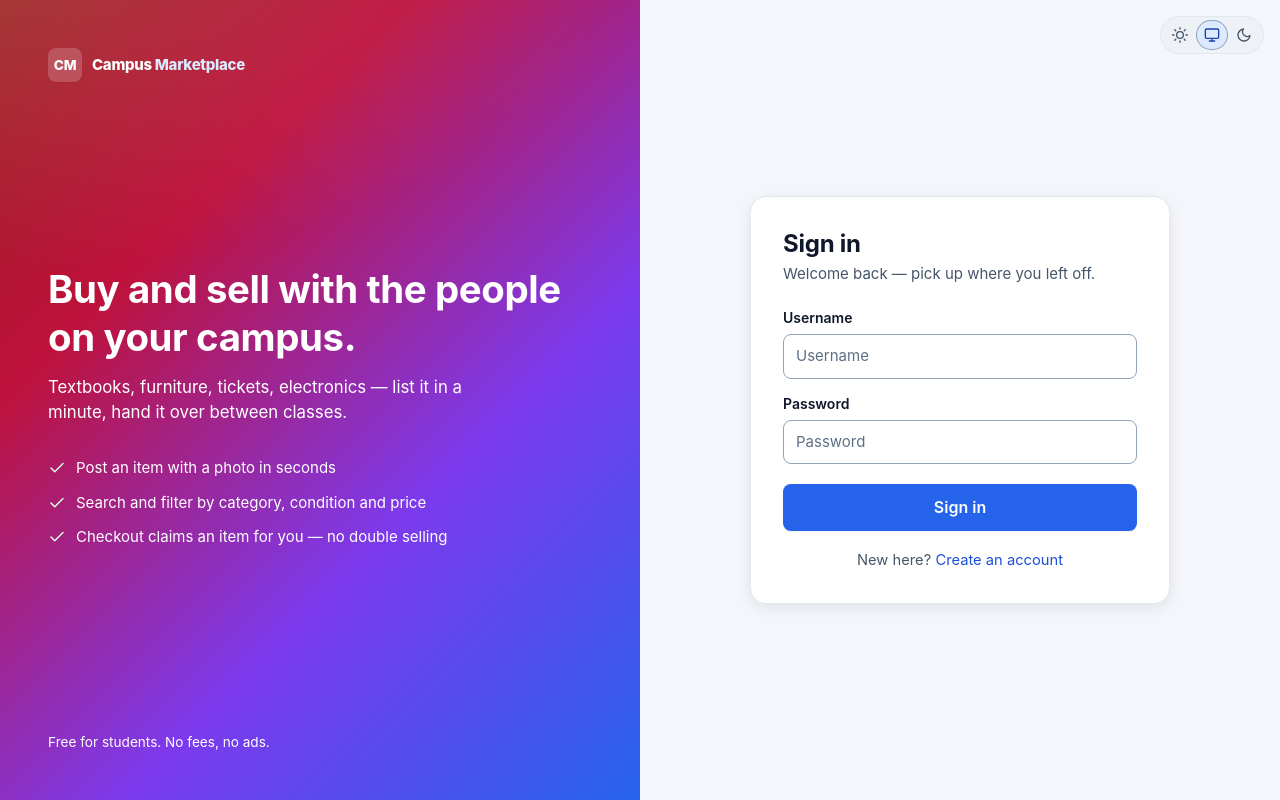
Scenario: a shared filter link survives the sign-in detour
Check: the heading "Sign in" is shown, box [783,229,861,258]
Type "danny" into the field labelled "Username". click: (960, 356)
box: [783,334,1137,379]
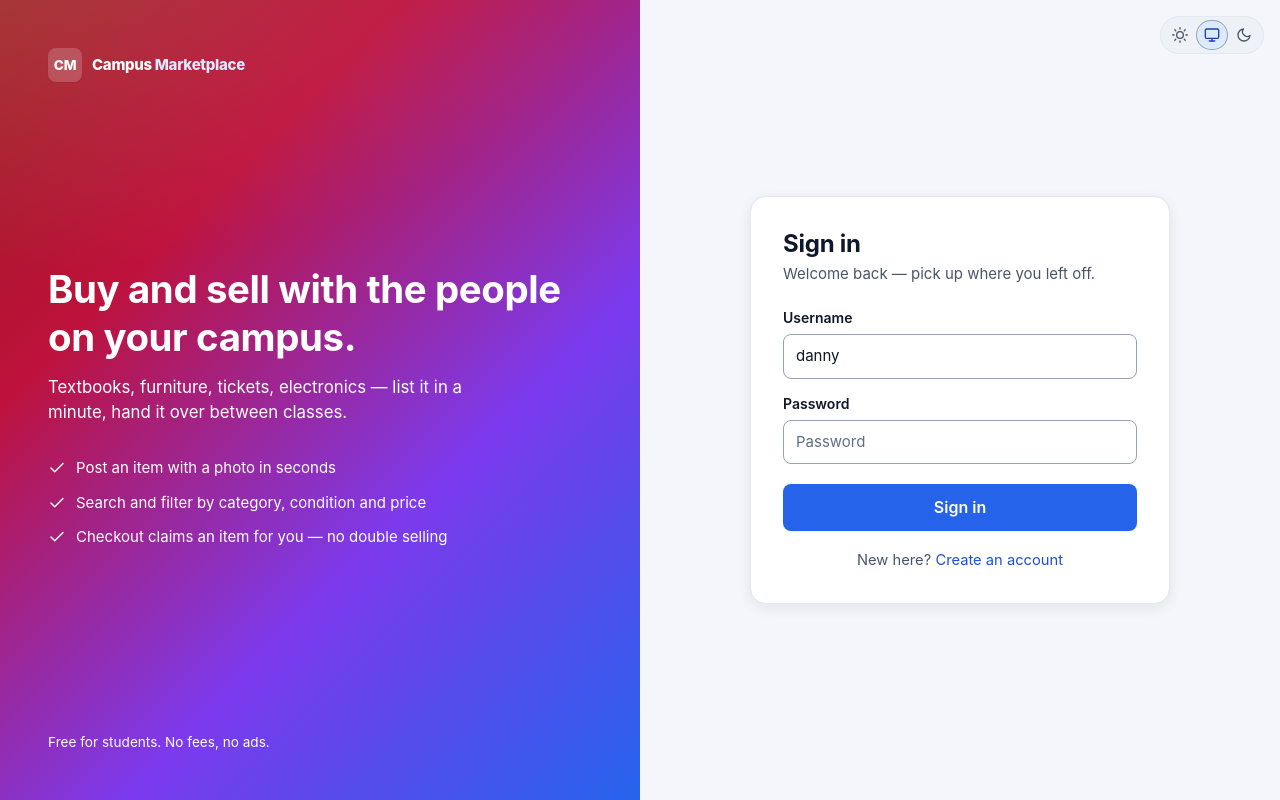
Type "longenough1" into the password field labelled "Password". click: (960, 442)
box: [783,420,1137,464]
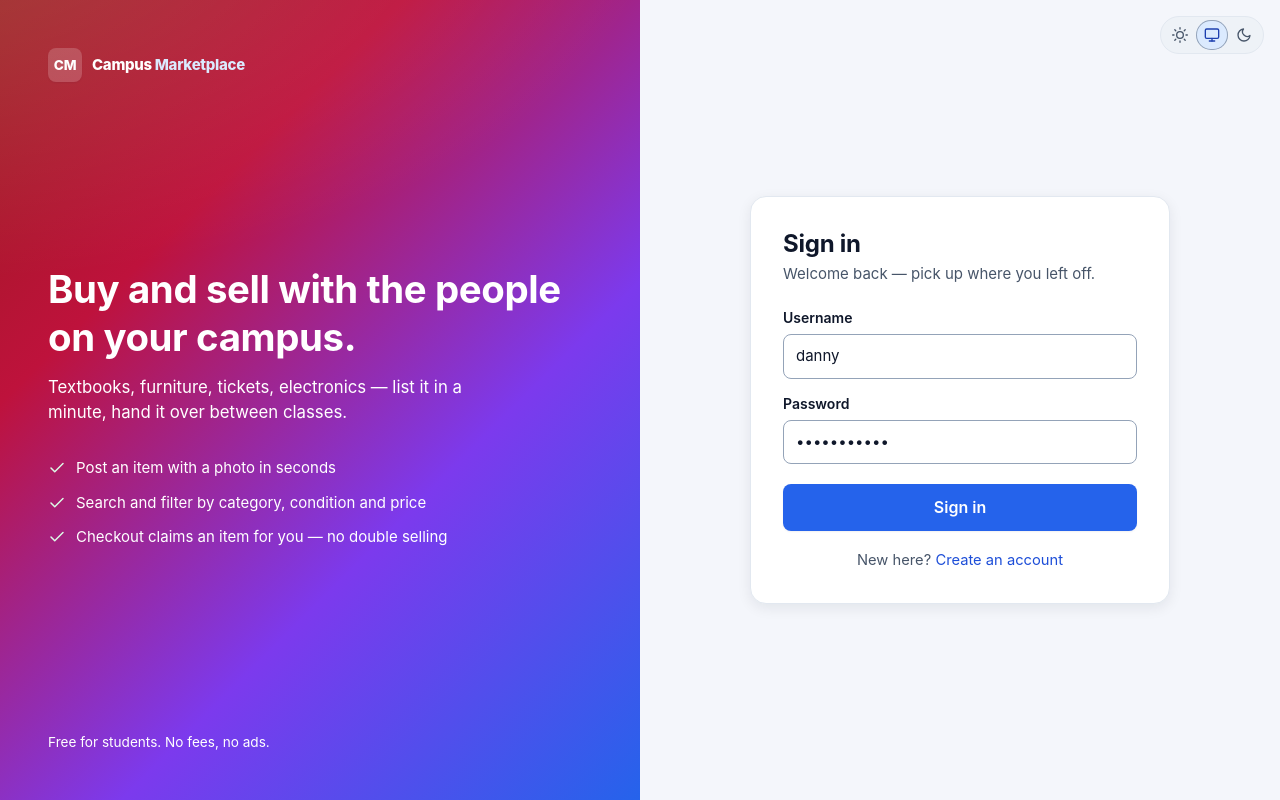
Click the button "Sign in". click: click(960, 508)
box: [783,484,1137,531]
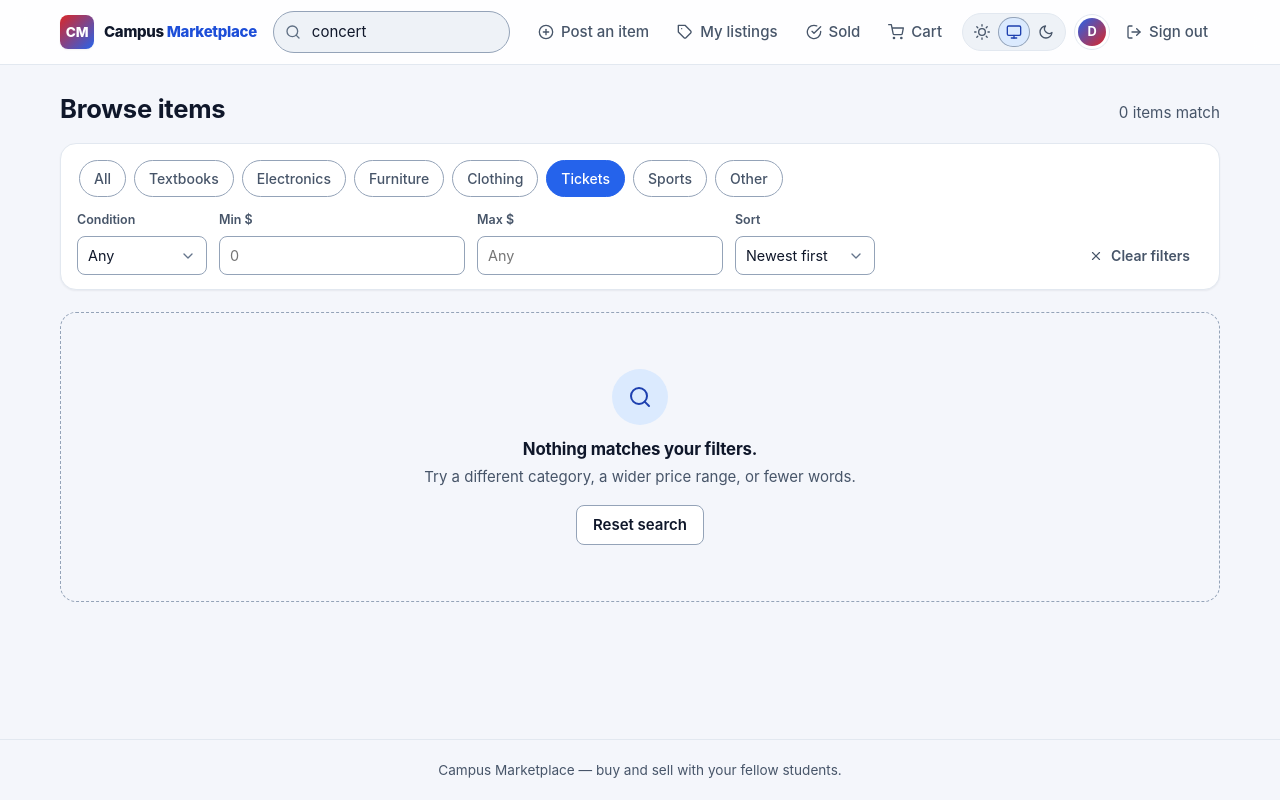
Check: the heading "Nothing matches your filters." is shown, box [523,439,757,459]
